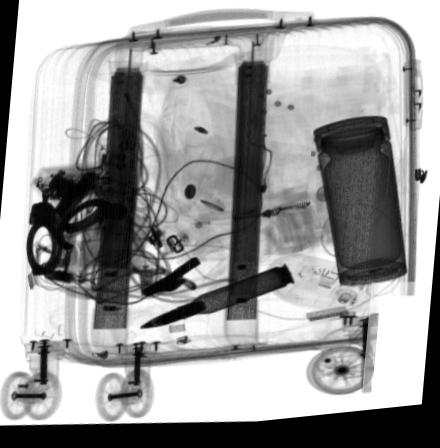Bullet: (138, 267, 295, 332)
Gun: (46, 171, 102, 228)
HandCuffs: (25, 197, 111, 276)
